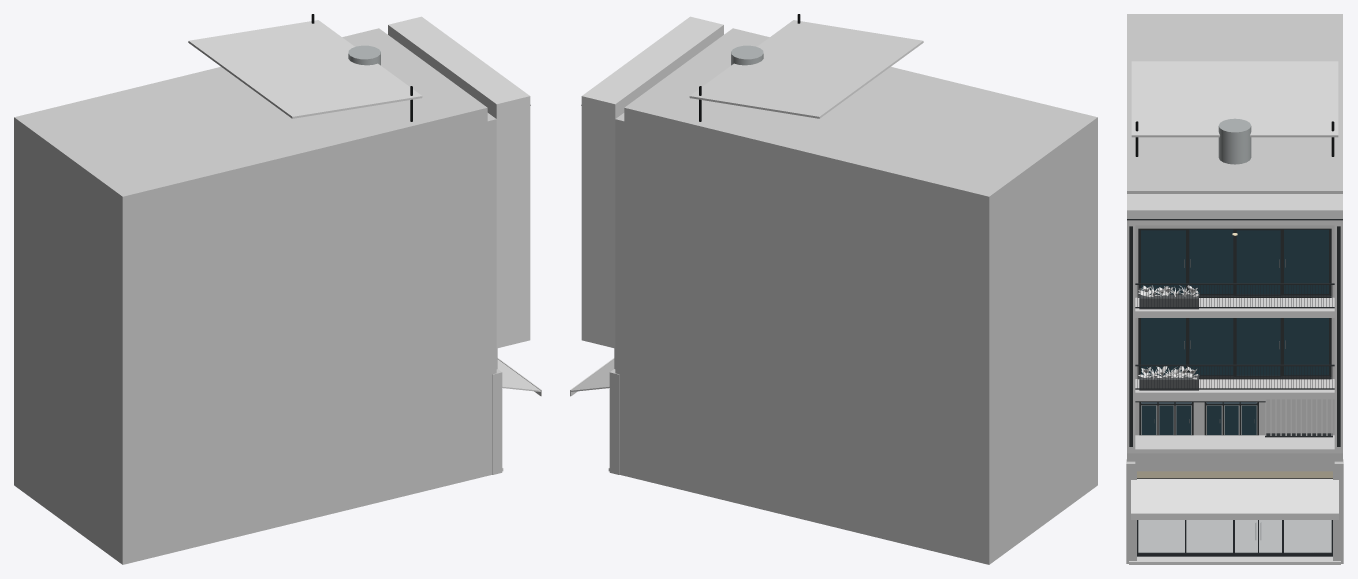
Rendered from OW_Mau_NhaPho_8_0_0_B.fbx.
3 renders of one model, left to right at view 1: azimuth 30°, elevation 25°; view 2: azimuth 150°, elevation 25°; view 3: azimuth 270°, elevation 25°, orthographic.
Parts seen in each view (by area): view 1: OW_NhaPho_9041; view 2: OW_NhaPho_9041; view 3: OW_NhaPho_9041, OW_MatTienKinh.
Boxes of the visible parts, x1,y1,x2,y2 form: OW_NhaPho_9041: (14,14,541,564); OW_NhaPho_9041: (570,14,1097,564); OW_NhaPho_9041: (1126,14,1343,564); OW_MatTienKinh: (1137,471,1332,556).
Size of the model in its own units: 17.77 by 16.31 by 8.
